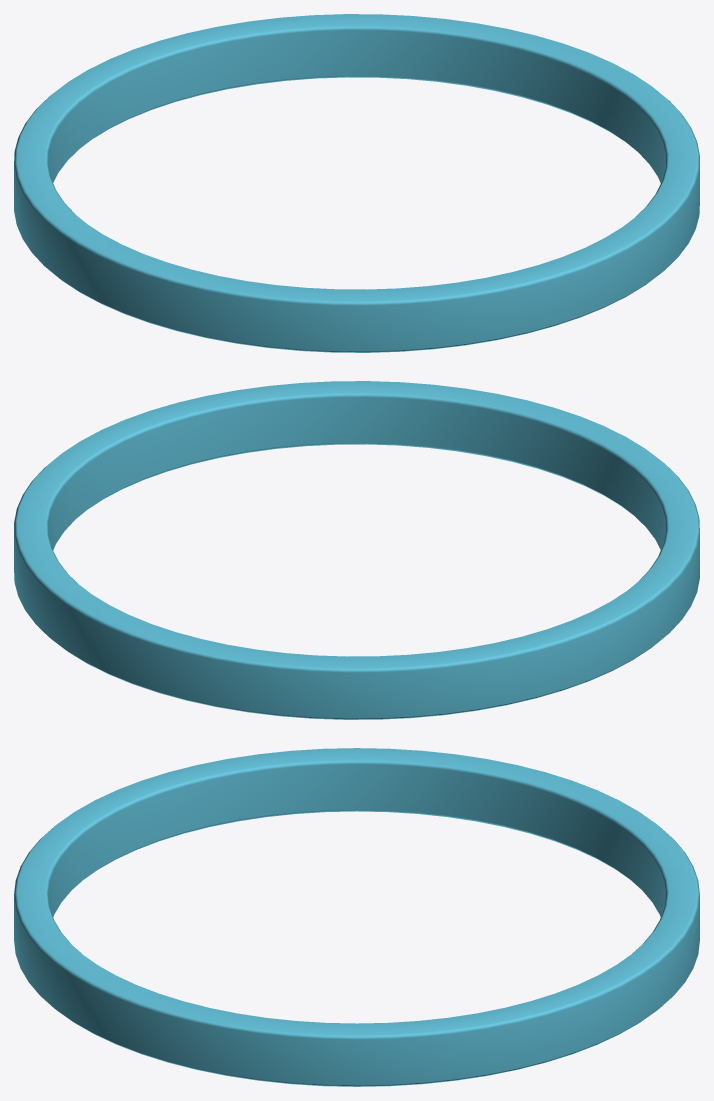
The picture shows the model from 3 angles, top to bottom: view 1: azimuth 30°, elevation 25°; view 2: azimuth 150°, elevation 25°; view 3: azimuth 270°, elevation 25°; orthographic projection.
Visible parts, largest first — view 1: seal_body; view 2: seal_body; view 3: seal_body.
Boxes of the visible parts, x1=… form: seal_body: x1=14, y1=14, x2=699, y2=352; seal_body: x1=14, y1=381, x2=699, y2=719; seal_body: x1=14, y1=748, x2=699, y2=1086.
Bounding box in the file's own units: 0.1905 × 0.0159 × 0.1905.
